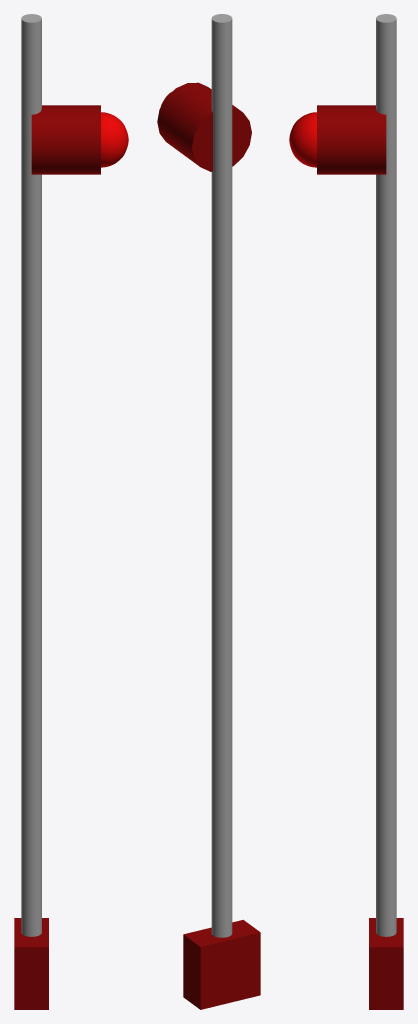
File: FireAlarm.fbx
3 views of the same model, side by side, from view 1: azimuth 90°, elevation 25°; view 2: azimuth 210°, elevation 25°; view 3: azimuth 270°, elevation 25° (orthographic).
Visible parts, largest first — view 1: pCylinder12, pCylinder11, pCube5, pSphere1; view 2: pCylinder12, pCube5, pCylinder11; view 3: pCylinder12, pCylinder11, pCube5, pSphere1.
Boxes of the visible parts, <box> form: pCylinder12: <box>21,14,41,936</box>; pCylinder11: <box>31,105,100,174</box>; pCube5: <box>14,918,48,1009</box>; pSphere1: <box>101,112,128,167</box>; pCylinder12: <box>211,14,232,937</box>; pCube5: <box>183,919,260,1009</box>; pCylinder11: <box>157,82,251,171</box>; pCylinder12: <box>376,14,396,936</box>; pCylinder11: <box>317,105,386,174</box>; pCube5: <box>369,918,403,1009</box>; pSphere1: <box>289,112,316,167</box>.
Size of the model in its own units: 0.1 by 1.55 by 0.165.
